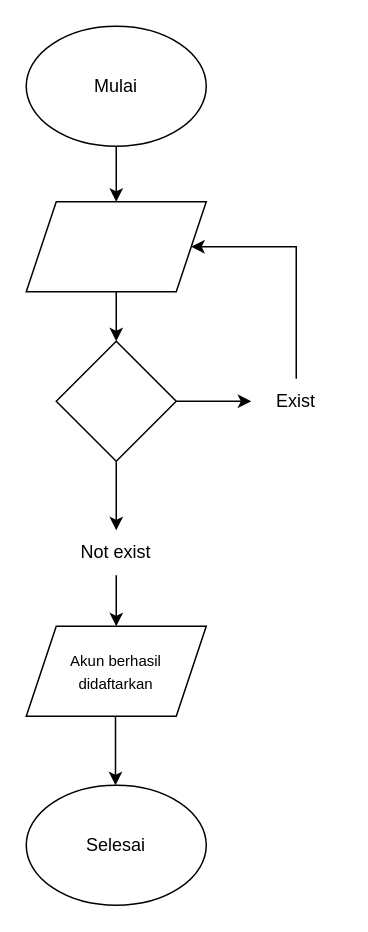
The diagram is 368 pixels wide and 932 high, and some of its shapes have lost their labels. Each missing label, with the centre of its shape:
Input data name, email, pass, phone: the point at 115,246
Pengecekan email: the point at 115,400
